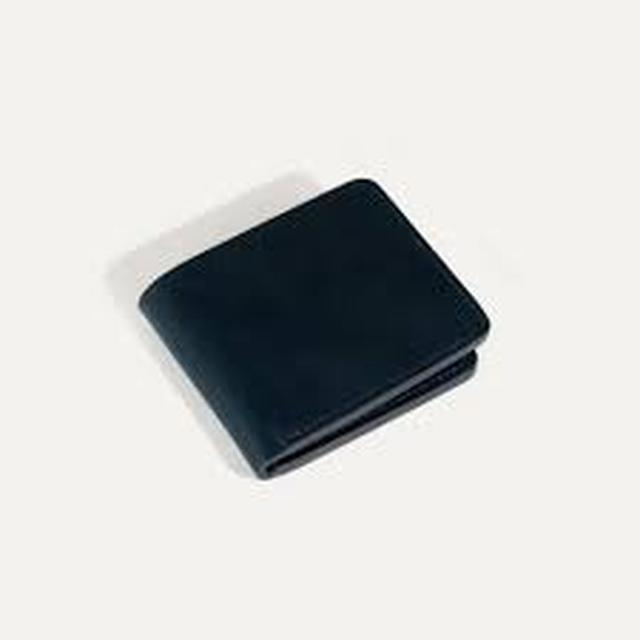wallet: (141, 171, 519, 466)
